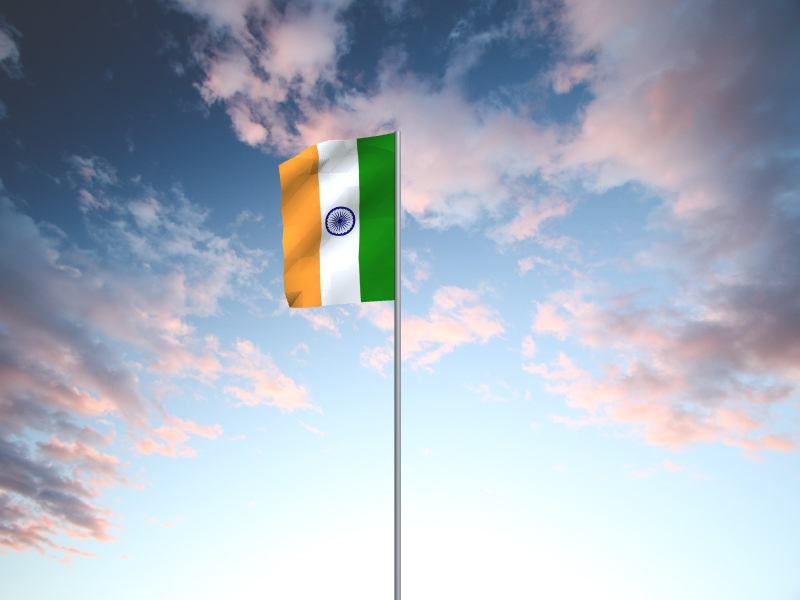in: (278, 134, 395, 309)
